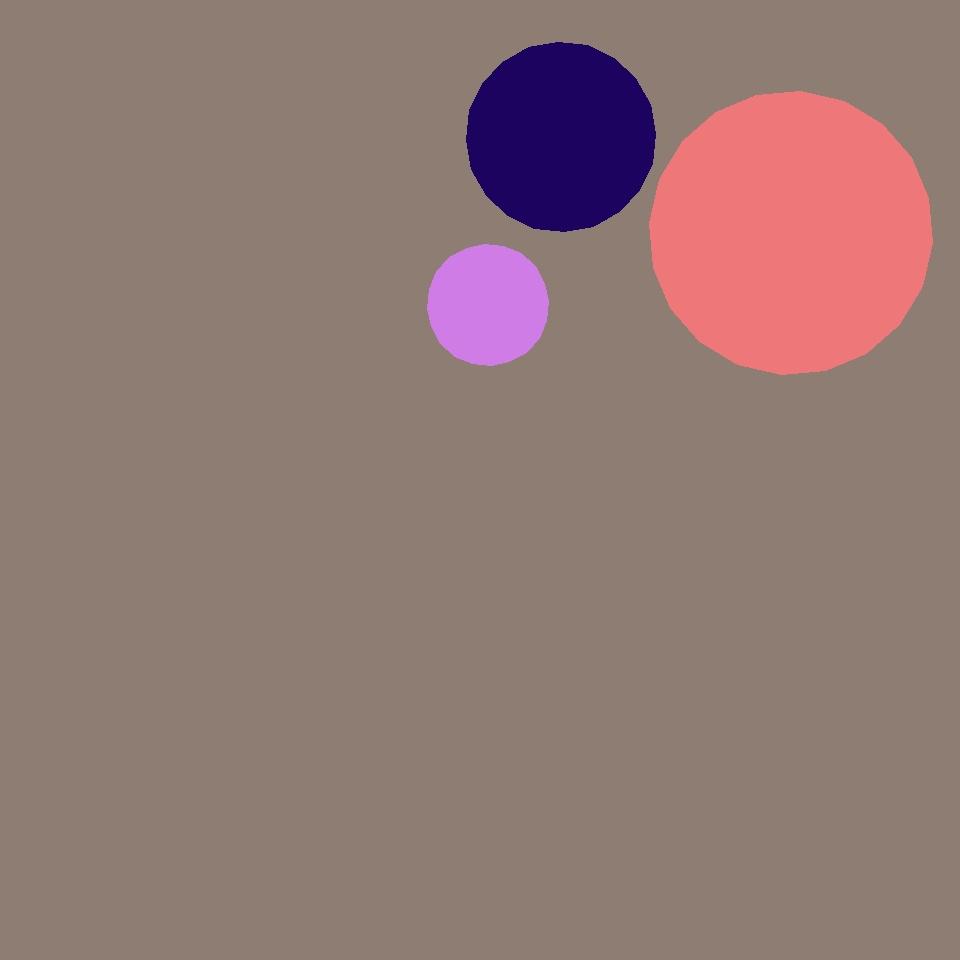circle: (596, 184, 790, 396)
square: (429, 387, 784, 742)
triangle: (650, 92, 933, 374), (466, 42, 655, 232), (428, 244, 548, 366)
